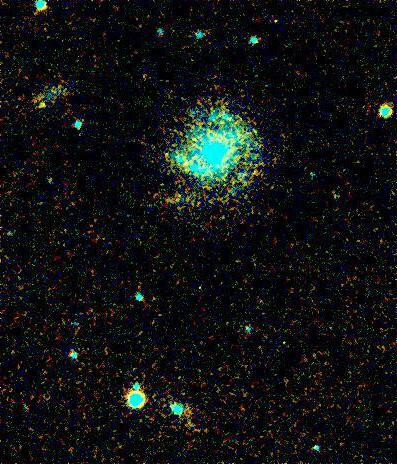star: (26, 91, 56, 121)
